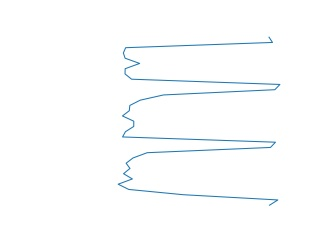majorRiverChannelBar: (116, 37, 283, 206)
